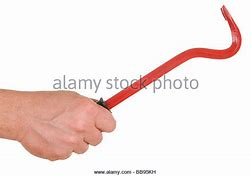crowbar: (43, 3, 243, 163)
